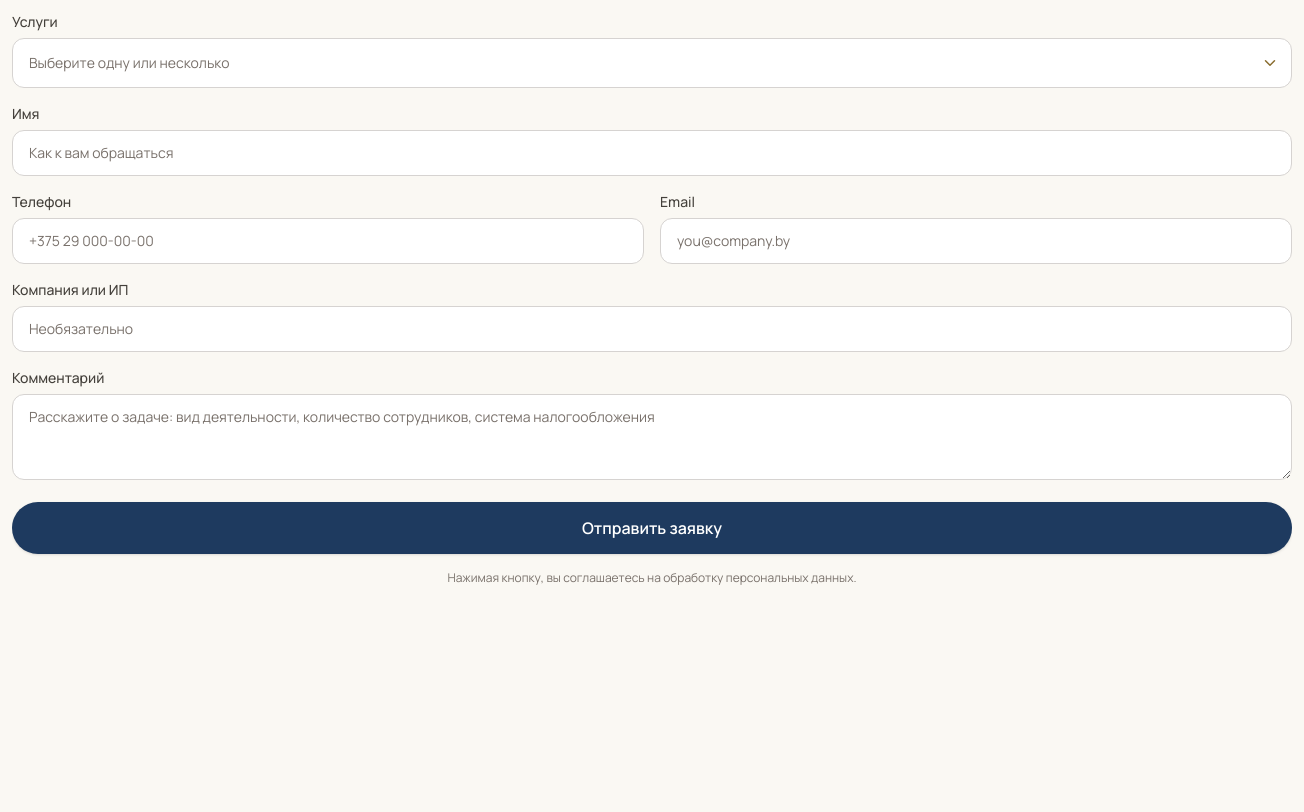
Test case: OrderForm › shows validation errors and does not submit
Click the button "Отправить заявку". click: [652, 528]
box: [12,502,1292,554]
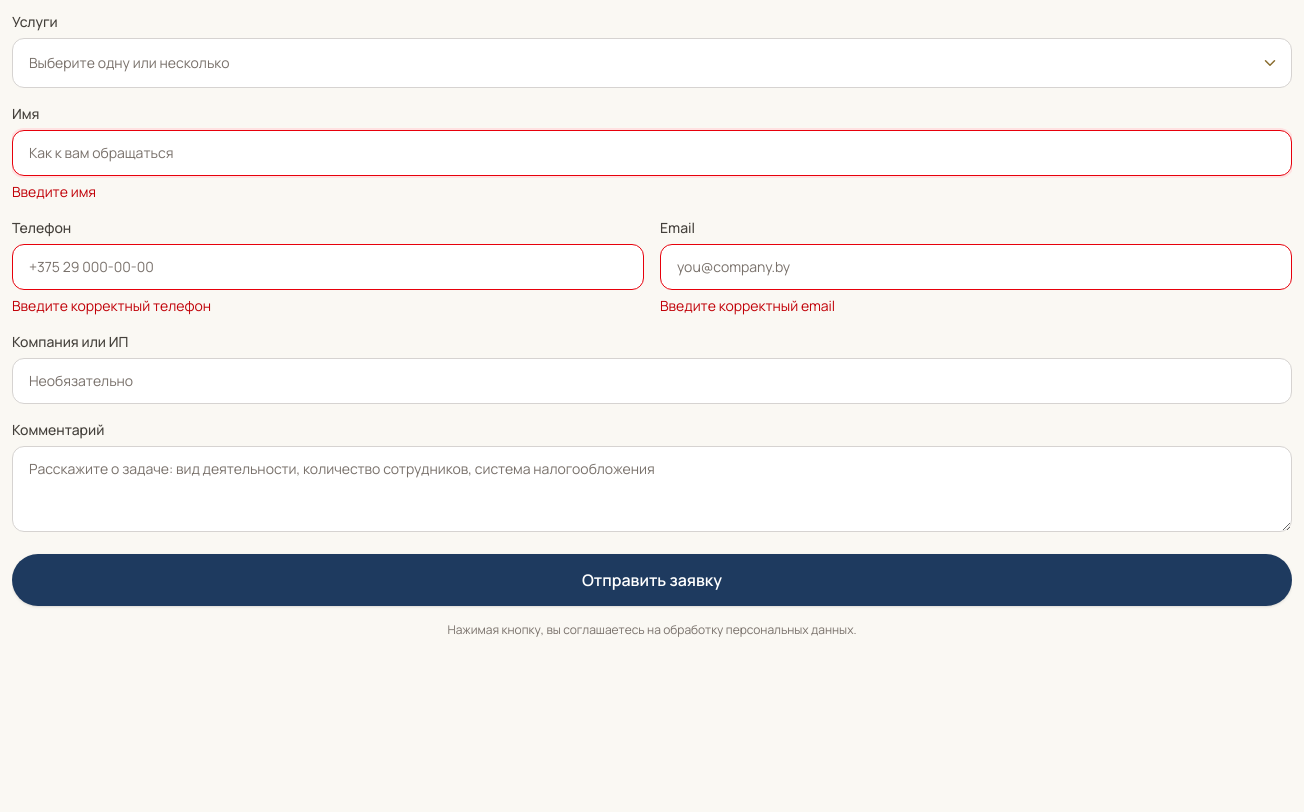
Check: the text "Введите имя" is shown, box [12,182,96,201]
Check: the text "Введите корректный телефон" is shown, box [12,296,211,315]
Check: the text "Введите корректный email" is shown, box [660,296,835,315]
